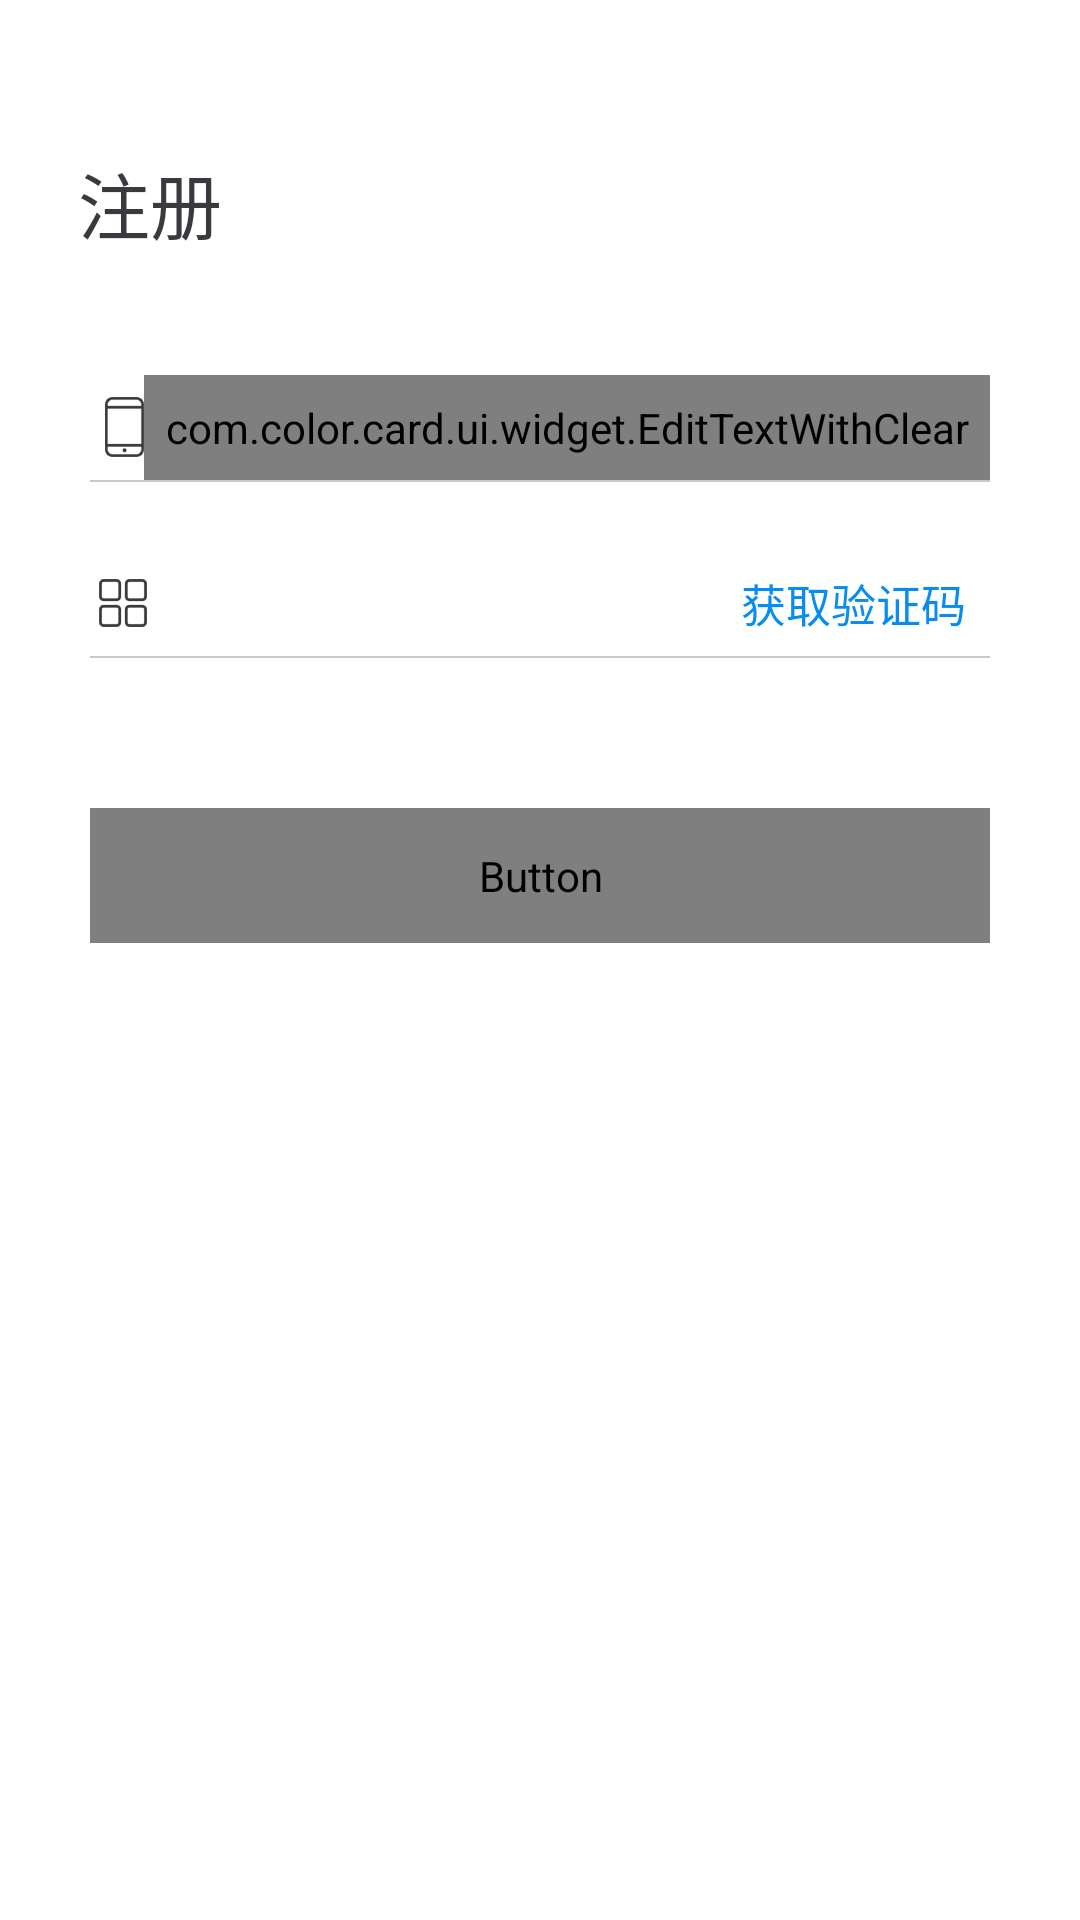

Named icons in this screenshot (1080px x 1920px) and their bounding boxes, (x1, y1, x2, y2):
mobile: (105, 397, 144, 457)
